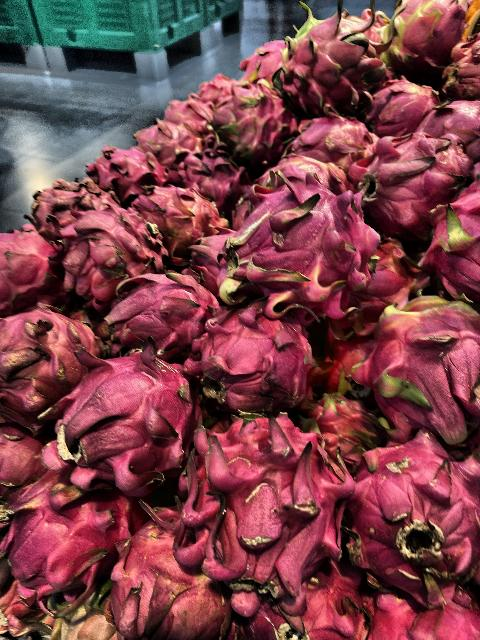buah-naga-belum-matang: (112, 516, 232, 640), (130, 178, 222, 258)
buah-naga-matang: (188, 412, 350, 622), (348, 428, 480, 606), (230, 166, 374, 320), (73, 339, 205, 486), (368, 287, 480, 438), (3, 474, 129, 594), (206, 294, 316, 414), (1, 304, 100, 426), (281, 2, 387, 108), (367, 118, 471, 226), (108, 270, 216, 350), (70, 213, 150, 303), (390, 0, 470, 82), (288, 108, 379, 172), (1, 220, 57, 308), (371, 77, 439, 129), (87, 147, 147, 189)
